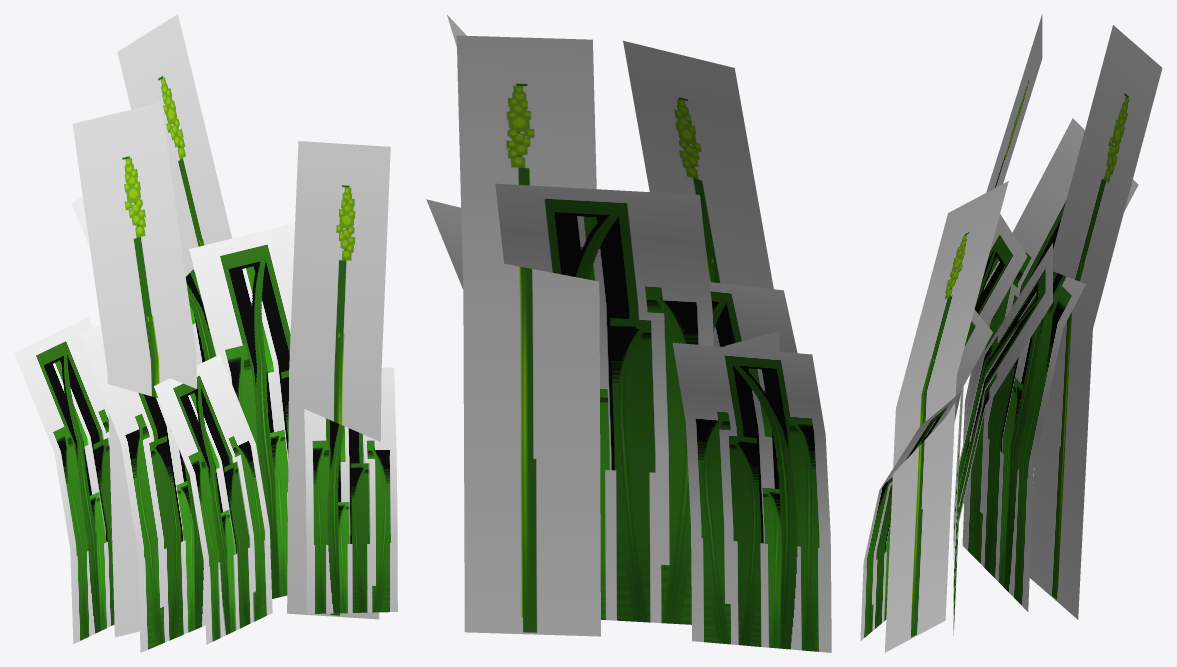
The model's file is Grass_05b.FBX.
The picture shows the model from 3 angles, left to right: view 1: azimuth 30°, elevation 25°; view 2: azimuth 150°, elevation 25°; view 3: azimuth 270°, elevation 25°; orthographic projection. The views are drawn at different scales.
Parts seen in each view (by area): view 1: Grass_05b; view 2: Grass_05b; view 3: Grass_05b.
Part boxes in pixels (bbox=[...]): Grass_05b: bbox=[14, 14, 397, 652]; Grass_05b: bbox=[426, 15, 831, 652]; Grass_05b: bbox=[860, 14, 1162, 652].
Size of the model in its own units: 15.68 by 23.62 by 11.76.
1 material, 1 textured.
